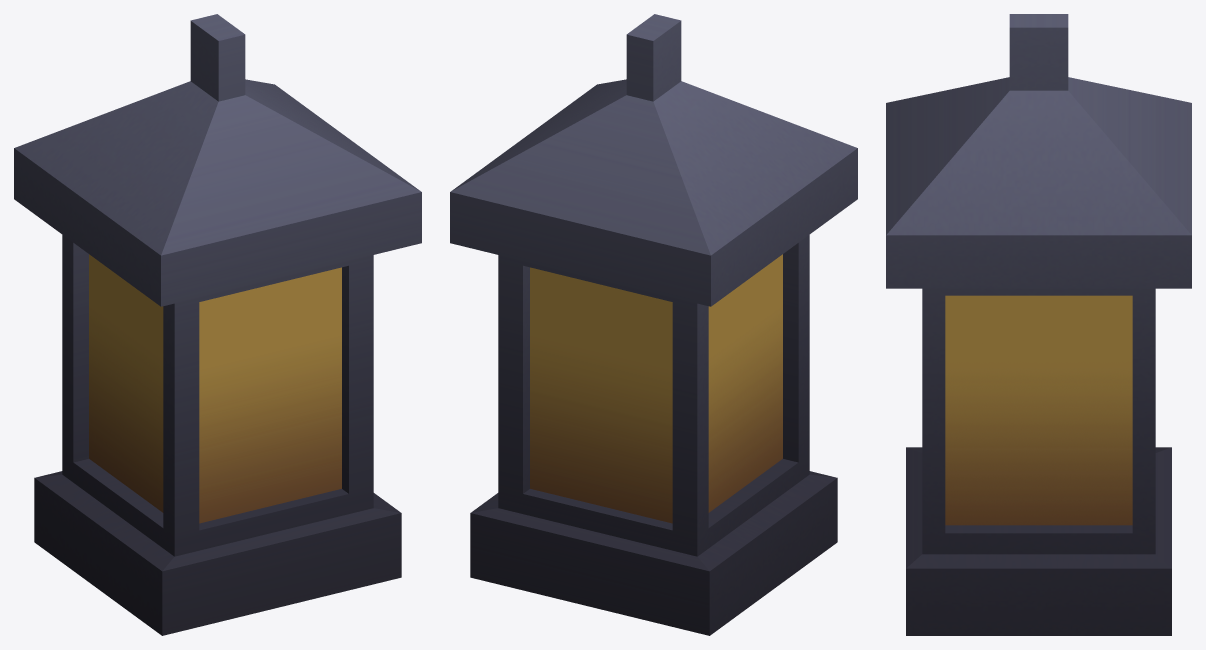
The model's file is lantern.glb.
The picture shows the model from 3 angles, left to right: view 1: azimuth 30°, elevation 25°; view 2: azimuth 150°, elevation 25°; view 3: azimuth 270°, elevation 25°; orthographic projection. The views are drawn at different scales.
Visible parts, largest first — view 1: Lamp_Material #117_0; view 2: Lamp_Material #117_0; view 3: Lamp_Material #117_0.
Boxes of the visible parts, <box> form: Lamp_Material #117_0: <box>14,14,421,635</box>; Lamp_Material #117_0: <box>450,14,857,635</box>; Lamp_Material #117_0: <box>886,14,1191,635</box>.
Bounding box in the file's own units: 0.3669 × 0.7159 × 0.358.
Materials: 1 (1 with a texture image).
